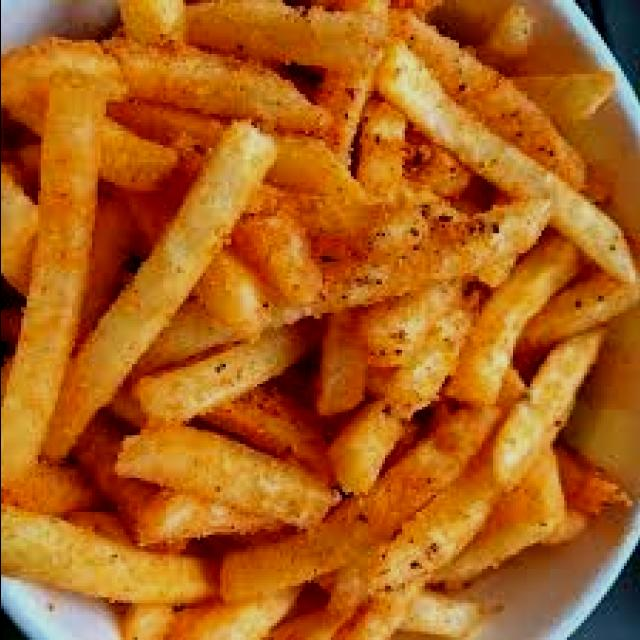kentang goreng: (0, 0, 640, 640)
